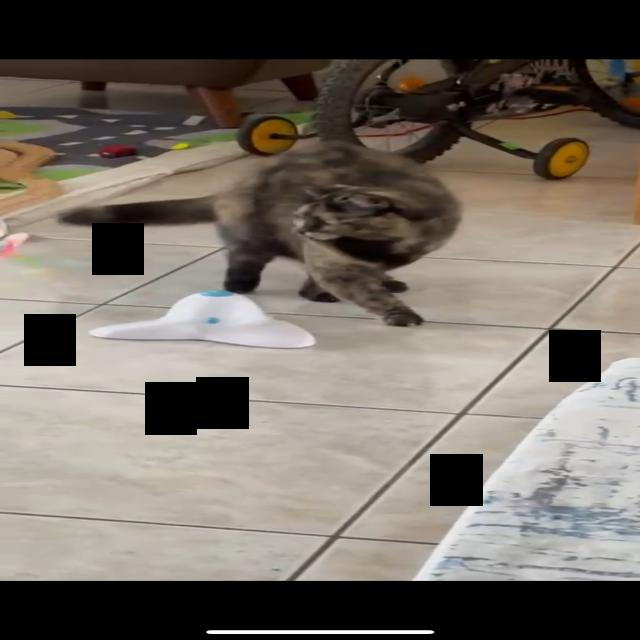authorized: (59, 138, 464, 328)
